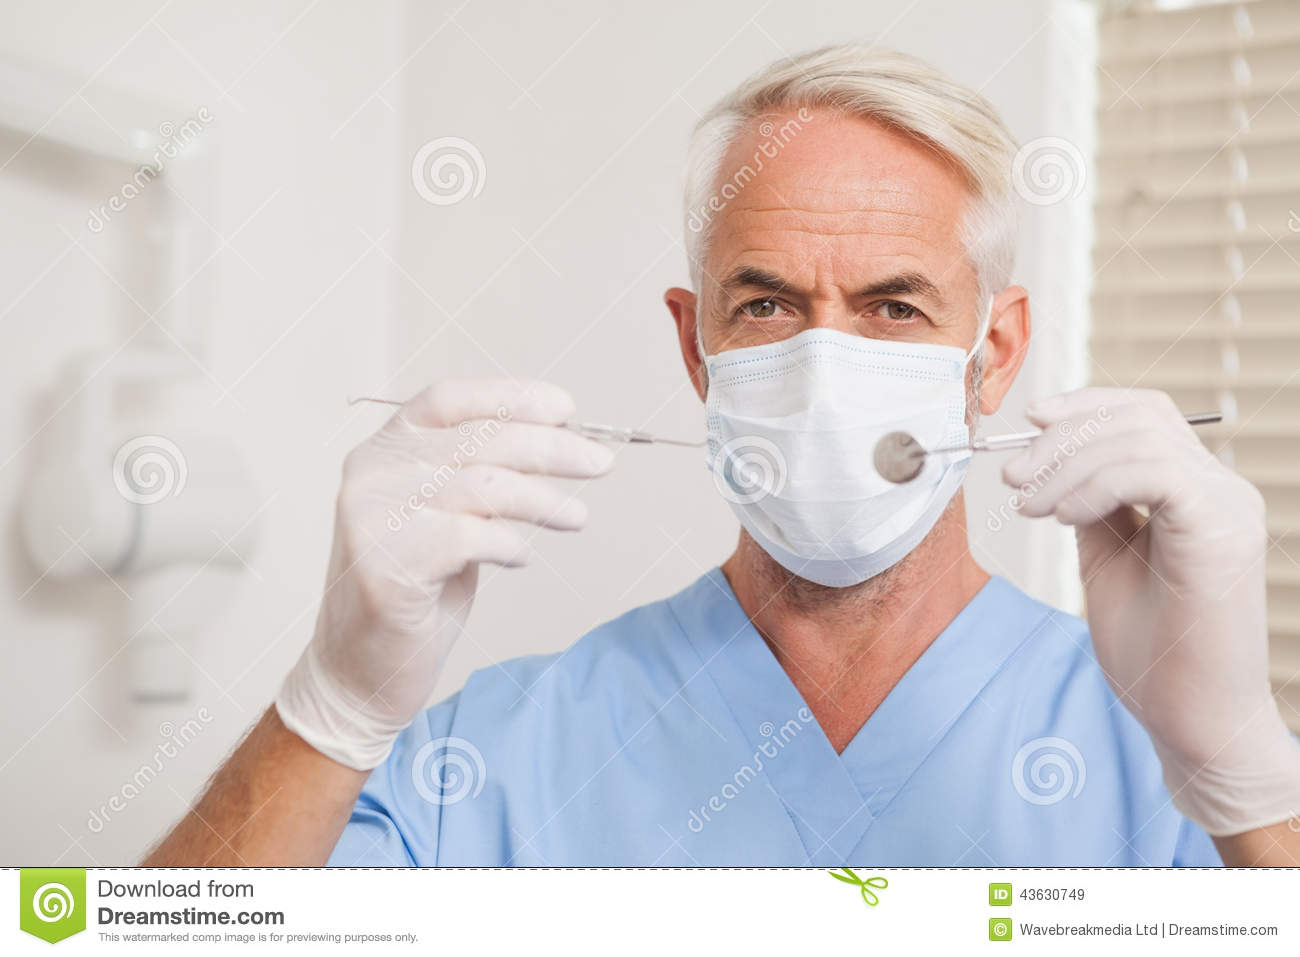mask: (688, 339, 991, 592)
